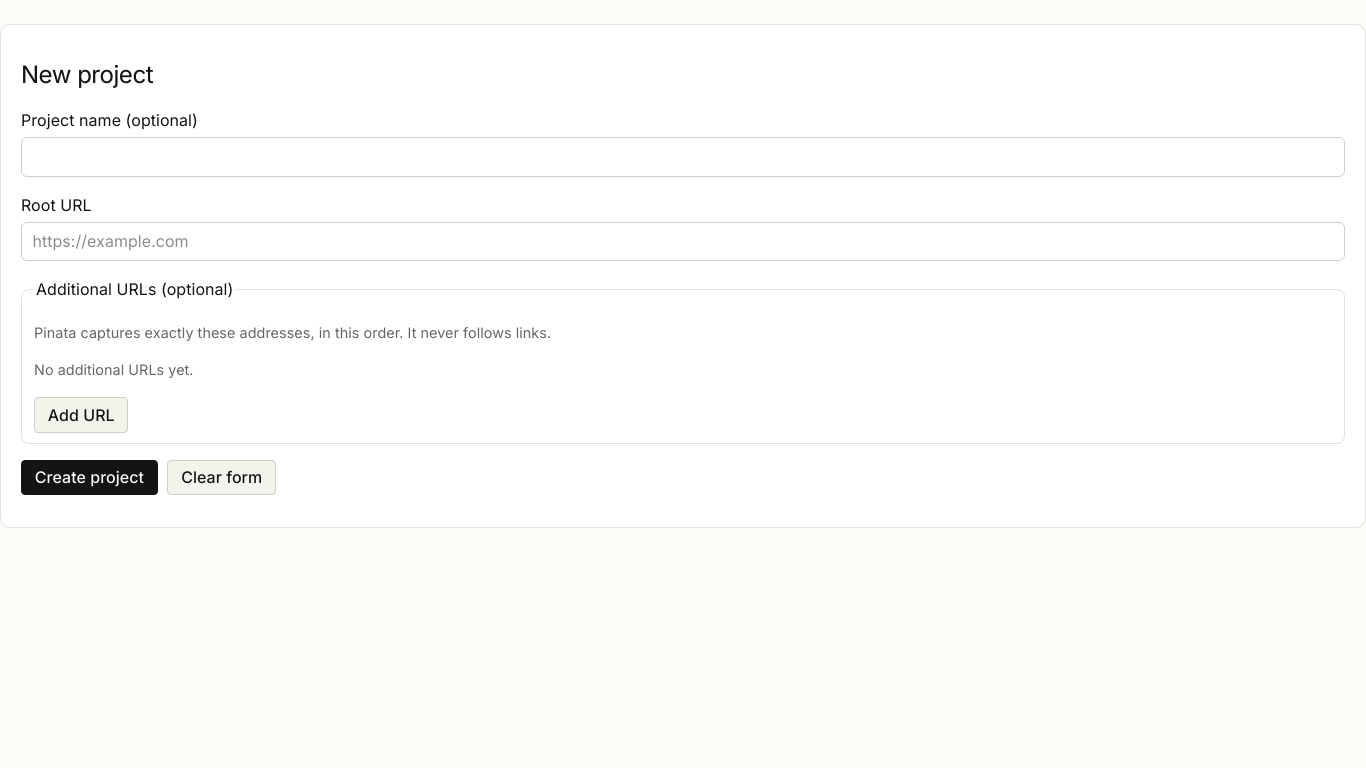
Scenario: server corrections › every invalid row is marked, other rows and their order survive
In the field labelled "Root URL": (683,241) [21,222,1345,261], type "https://chickpea.co"
Click the button "Add URL": (81,415) [34,397,128,433]
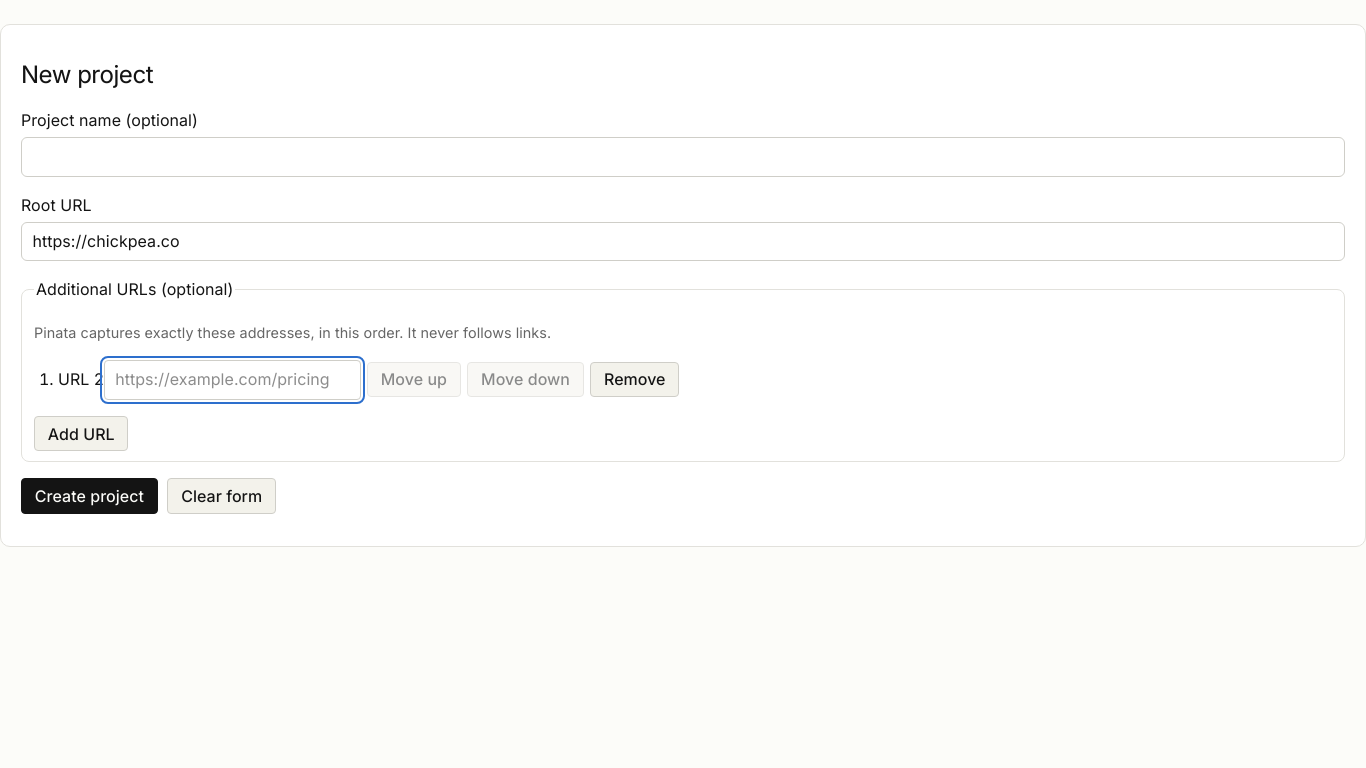
In the field labelled "URL 2": (232,380) [104,360,361,400], type "http://chickpea.co/insecure"
Click the button "Add URL": (81,434) [34,416,128,451]
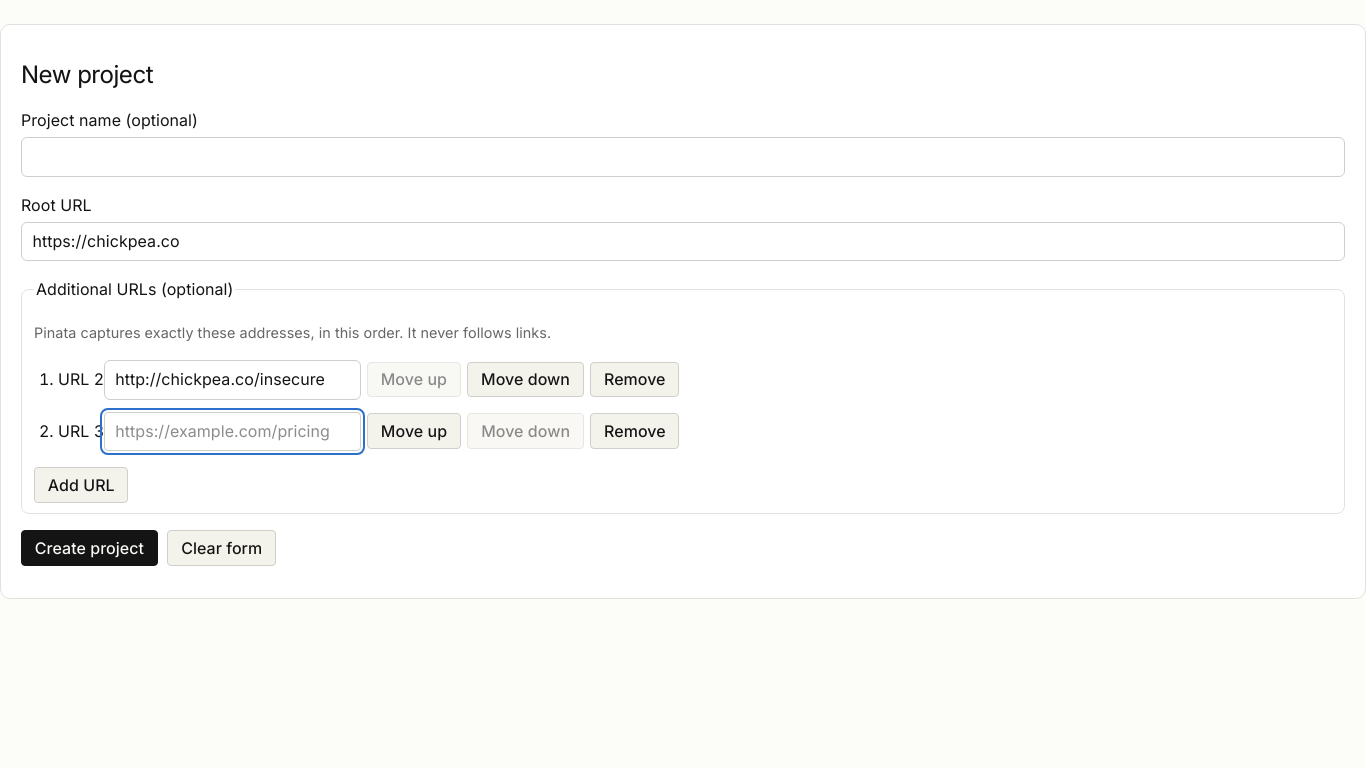
In the field labelled "URL 3": (232,432) [104,412,361,451], type "https://chickpea.co/pricing"
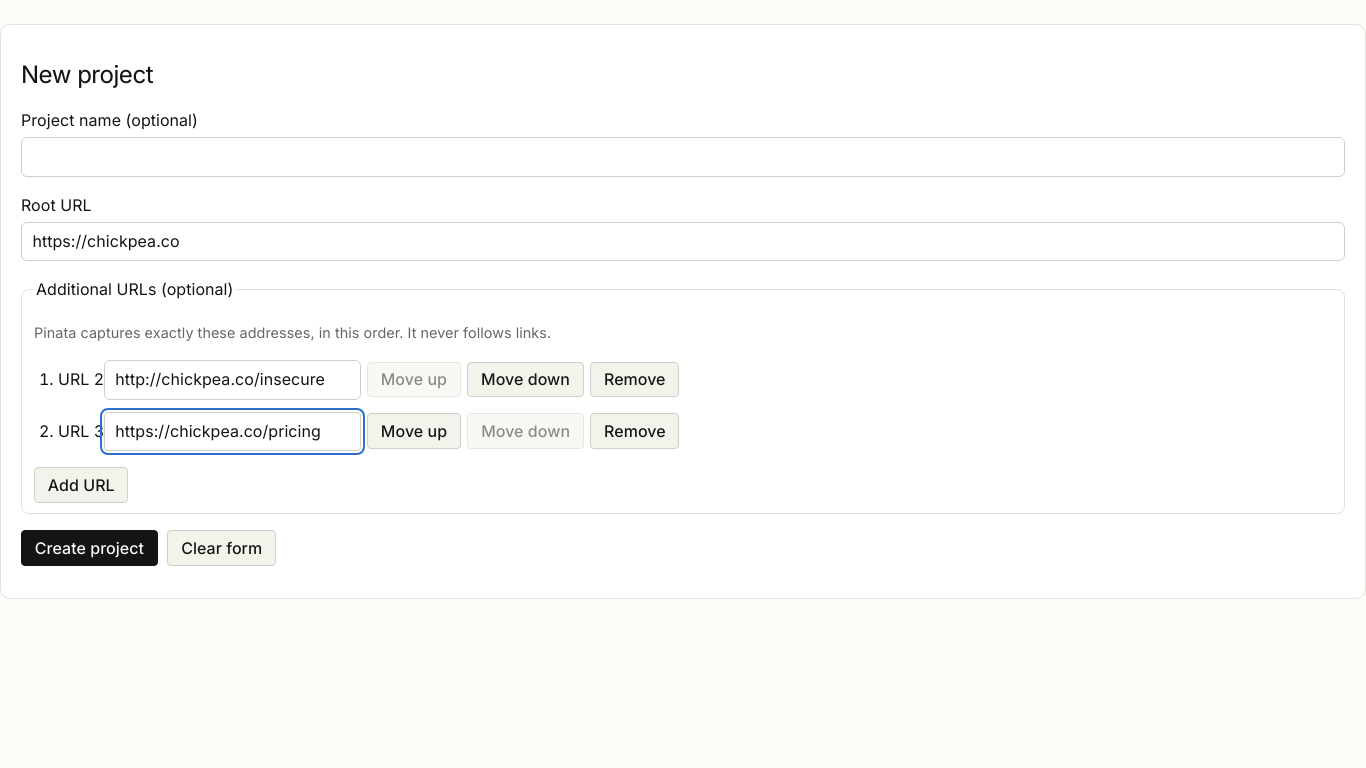
Click the button "Add URL": (81,485) [34,467,128,503]
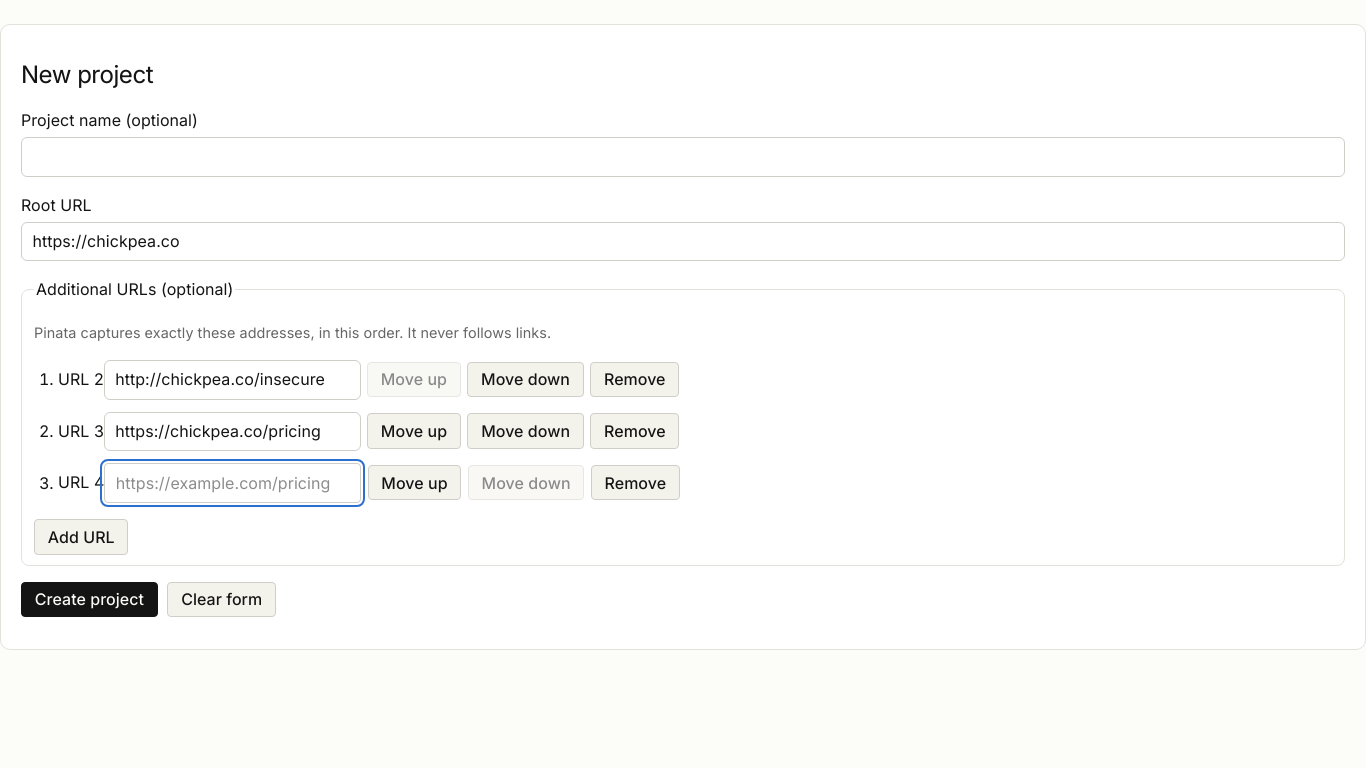
In the field labelled "URL 4": (233,483) [104,463,361,503], type "https://127.0.0.1/admin"
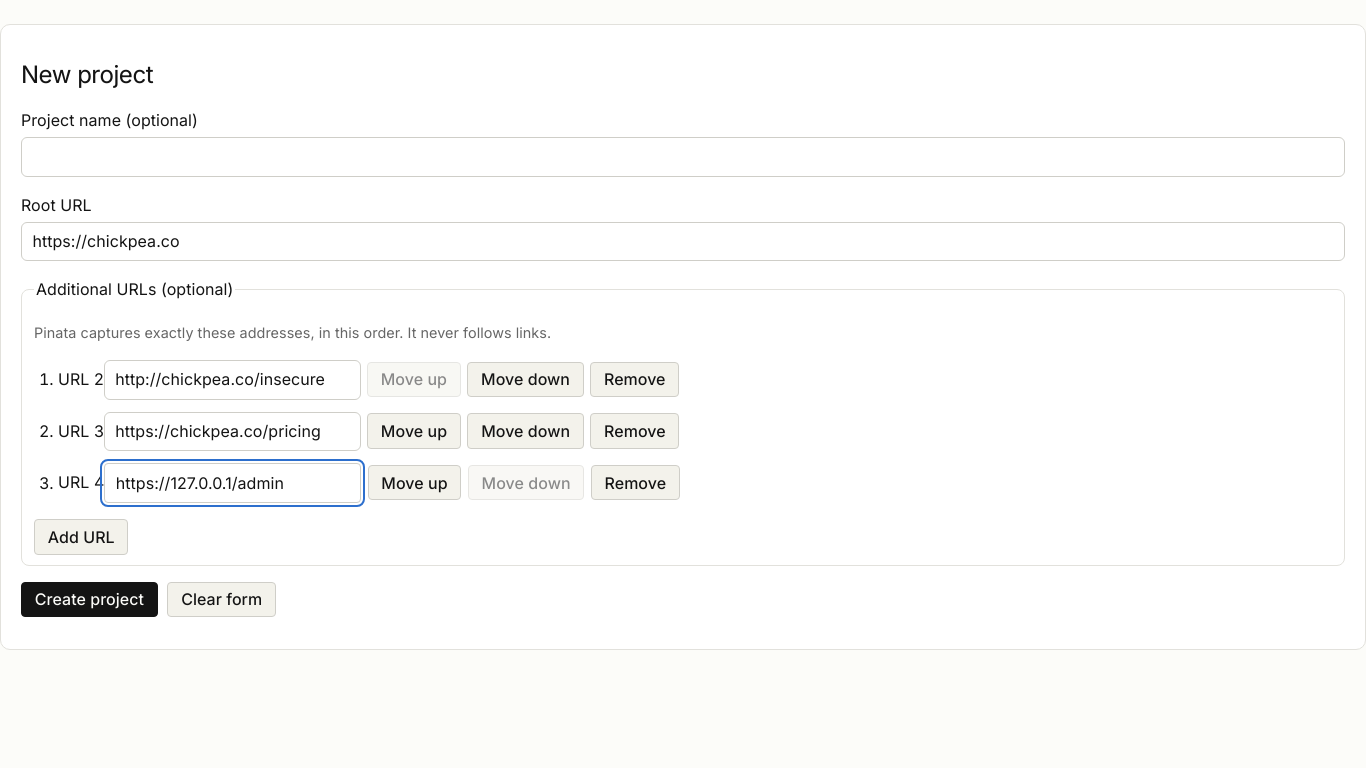
Click the button "Create project": (89,599) [21,582,158,617]
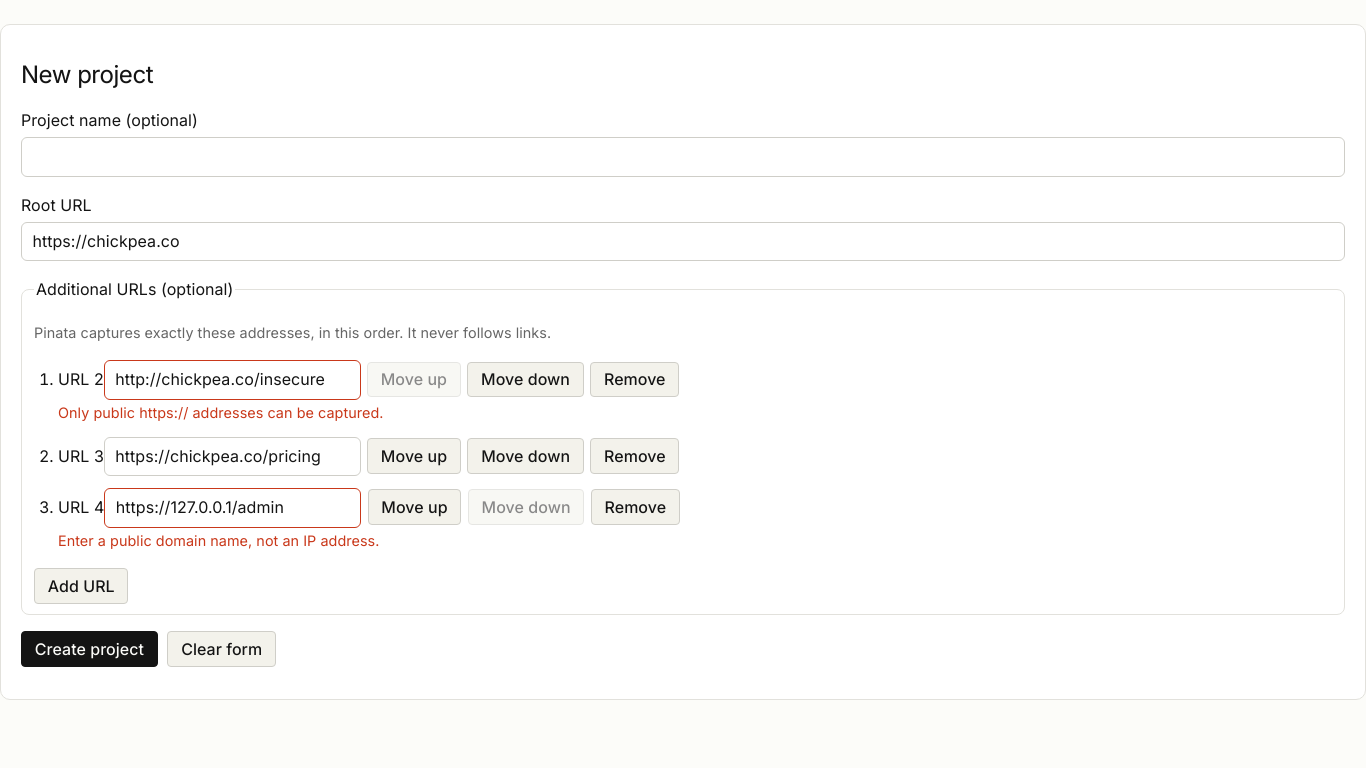
Check: the messages read "Only public https:// addresses can be captured.", "Enter a public domain name, not an IP address.", in this order, box [58,404,384,421]; [58,532,380,549]
